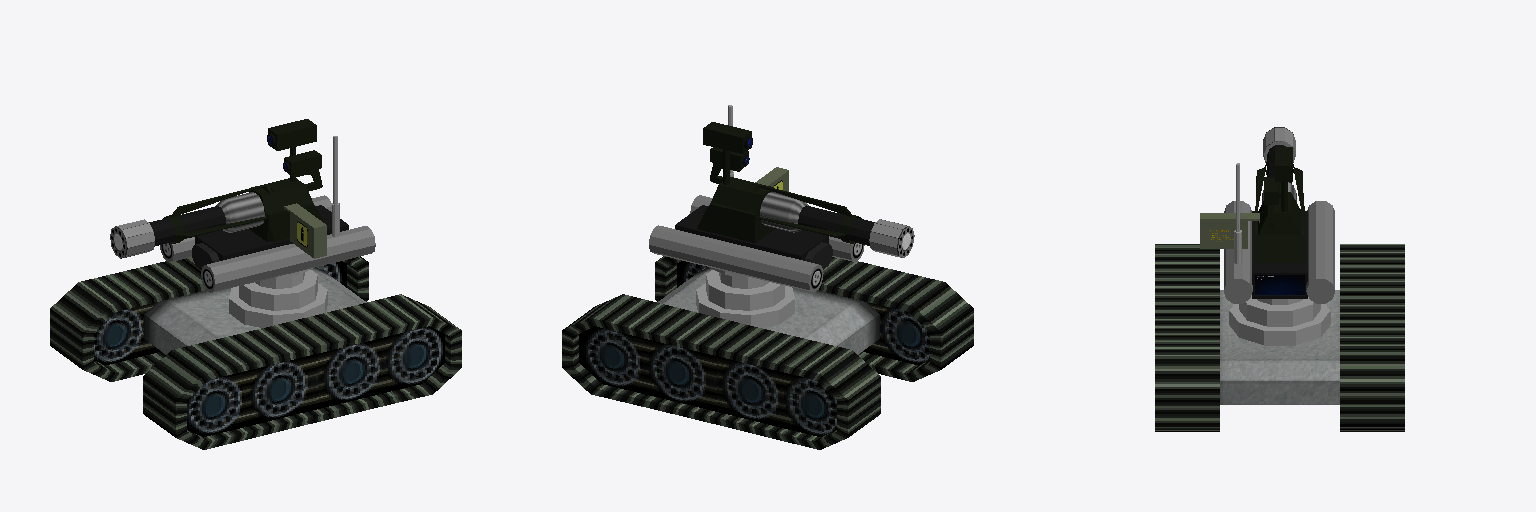
3 renders of one model, left to right at view 1: azimuth 30°, elevation 25°; view 2: azimuth 150°, elevation 25°; view 3: azimuth 270°, elevation 25°, orthographic.
Parts seen in each view (by area): view 1: Track_left_Cube, Track_right_Cube, Bottom_Cylinder, Cylinder_left_Cylinder.004, Turret_base_Cube.002, Cube_Cube.001, Tower2_Cylinder.002, Tower1_Cylinder.001, Ammo_Cube.007, Turret_mid_Cylinder.011, Turret_end_Cylinder.012, Turret_start_Cylinder.010 (+3 smaller); view 2: Track_right_Cube, Track_left_Cube, Bottom_Cylinder, Cylinder_right_Cylinder.004, Turret_base_Cube.002, Cube_Cube.001, Tower2_Cylinder.002, Tower1_Cylinder.001, Turret_mid_Cylinder.011, Turret_end_Cylinder.012, Turret_start_Cylinder.010, Camera2_Cube.006 (+2 smaller); view 3: Track_right_Cube, Track_left_Cube, Bottom_Cylinder, Turret_base_Cube.002, Cylinder_right_Cylinder.004, Tower1_Cylinder.001, Cylinder_left_Cylinder.004, Tower2_Cylinder.002, Ammo_Cube.007, Cube_Cube.001, Display_Cube.005, Turret_end_Cylinder.012 (+1 smaller).
Part boxes in pixels (left/top/right/bottom): Track_left_Cube: left=143, top=294, right=461, bottom=449; Track_right_Cube: left=50, top=256, right=368, bottom=381; Bottom_Cylinder: left=144, top=267, right=366, bottom=354; Cylinder_left_Cylinder.004: left=201, top=226, right=375, bottom=292; Turret_base_Cube.002: left=249, top=178, right=323, bottom=241; Cube_Cube.001: left=195, top=205, right=348, bottom=260; Tower2_Cylinder.002: left=239, top=270, right=317, bottom=310; Tower1_Cylinder.001: left=229, top=283, right=327, bottom=327; Ammo_Cube.007: left=284, top=203, right=326, bottom=258; Turret_mid_Cylinder.011: left=149, top=206, right=225, bottom=246; Turret_end_Cylinder.012: left=110, top=219, right=154, bottom=258; Turret_start_Cylinder.010: left=216, top=192, right=264, bottom=232; Track_right_Cube: left=562, top=294, right=880, bottom=449; Track_left_Cube: left=655, top=256, right=973, bottom=381; Bottom_Cylinder: left=657, top=267, right=879, bottom=354; Cylinder_right_Cylinder.004: left=649, top=225, right=823, bottom=292; Turret_base_Cube.002: left=697, top=177, right=775, bottom=242; Cube_Cube.001: left=675, top=205, right=828, bottom=260; Tower2_Cylinder.002: left=706, top=270, right=784, bottom=310; Tower1_Cylinder.001: left=696, top=283, right=794, bottom=327; Turret_mid_Cylinder.011: left=798, top=205, right=874, bottom=245; Turret_end_Cylinder.012: left=869, top=219, right=914, bottom=257; Turret_start_Cylinder.010: left=760, top=192, right=808, bottom=232; Camera2_Cube.006: left=703, top=122, right=751, bottom=153; Track_right_Cube: left=1340, top=244, right=1404, bottom=431; Track_left_Cube: left=1155, top=244, right=1219, bottom=431; Bottom_Cylinder: left=1220, top=290, right=1339, bottom=404; Turret_base_Cube.002: left=1255, top=192, right=1304, bottom=262; Cylinder_right_Cylinder.004: left=1306, top=201, right=1334, bottom=303; Tower1_Cylinder.001: left=1229, top=304, right=1330, bottom=345; Cylinder_left_Cylinder.004: left=1224, top=201, right=1252, bottom=303; Tower2_Cylinder.002: left=1239, top=295, right=1320, bottom=326; Ammo_Cube.007: left=1200, top=213, right=1259, bottom=248; Cube_Cube.001: left=1252, top=211, right=1307, bottom=298; Display_Cube.005: left=1255, top=275, right=1304, bottom=294; Turret_end_Cylinder.012: left=1263, top=127, right=1295, bottom=162.
Size of the model in its own units: 2.02 by 1.62 by 1.53.
Materials: 14 (8 with a texture image).